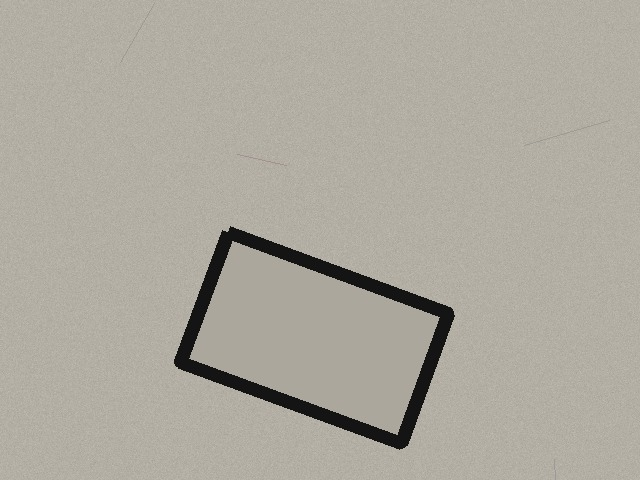parking_area: (180, 232, 448, 443)
